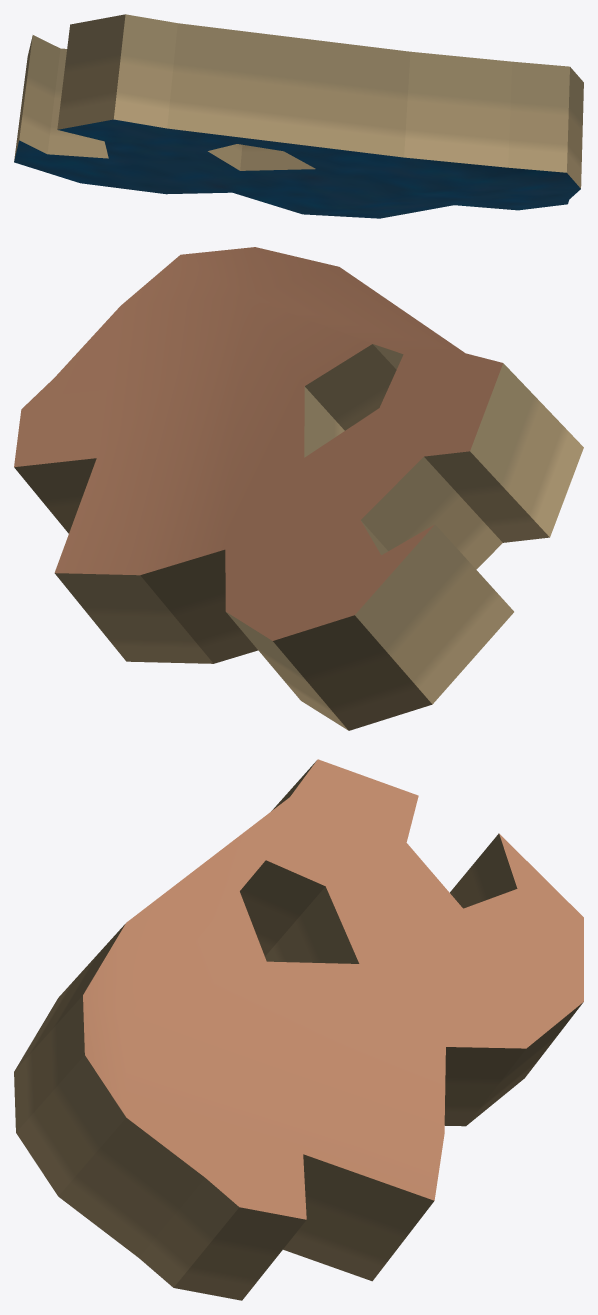
The model's file is 0660_South_Africa.glb.
3 renders of one model, top to bottom at view 1: azimuth 30°, elevation 25°; view 2: azimuth 150°, elevation 25°; view 3: azimuth 270°, elevation 25°, orthographic. The views are drawn at different scales.
Visible parts, largest first — view 1: part_0; view 2: part_0; view 3: part_0.
Boxes of the visible parts, box(x1,y1,x2,y2) form: part_0: box(14, 14, 583, 218); part_0: box(14, 247, 583, 730); part_0: box(14, 759, 583, 1300).
Size of the model in its own units: 1 by 0.5843 by 0.8488.
Materials: 1 (1 with a texture image).
